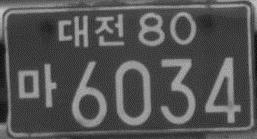0: (113, 59, 153, 127), (169, 9, 197, 46)
3: (157, 57, 198, 125)
4: (202, 56, 242, 125)
6: (69, 60, 108, 129)
8: (137, 11, 166, 46)
대전_O: (56, 12, 125, 47)
마: (16, 62, 57, 109)
